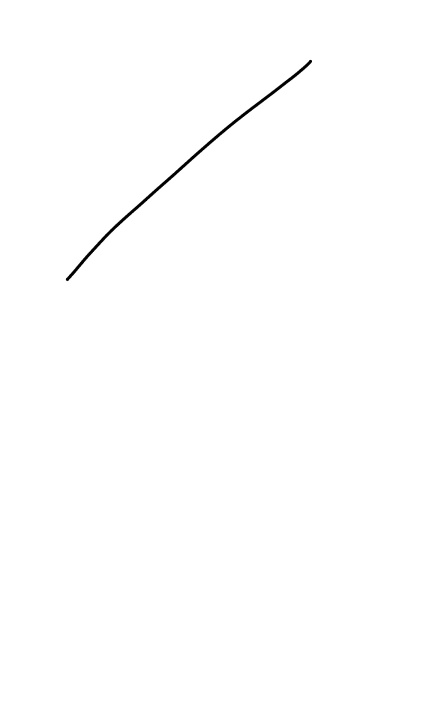Line: (60, 53, 314, 286)
